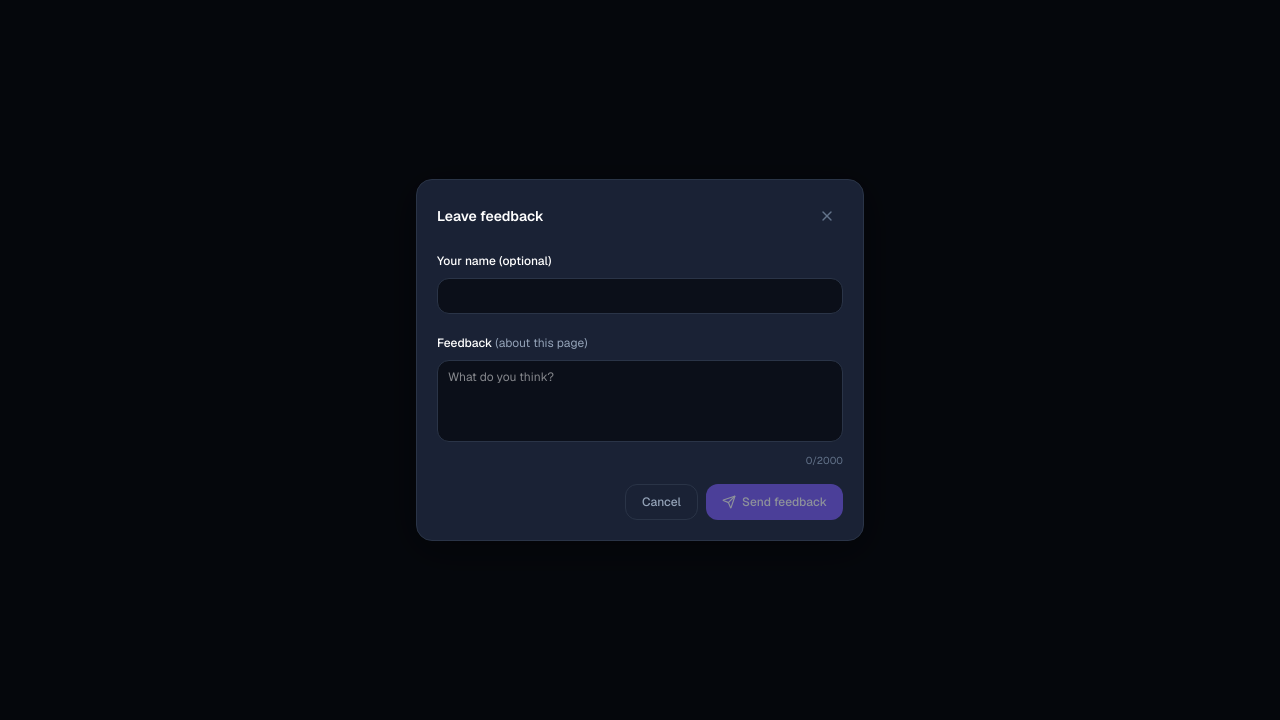
Test: form › submits and shows a success confirmation
This screenshot has width=1280, height=720.
Type "Nice!" into the text box with test id "feedback-body" at (640, 401), box left=437, top=360, right=843, bottom=442
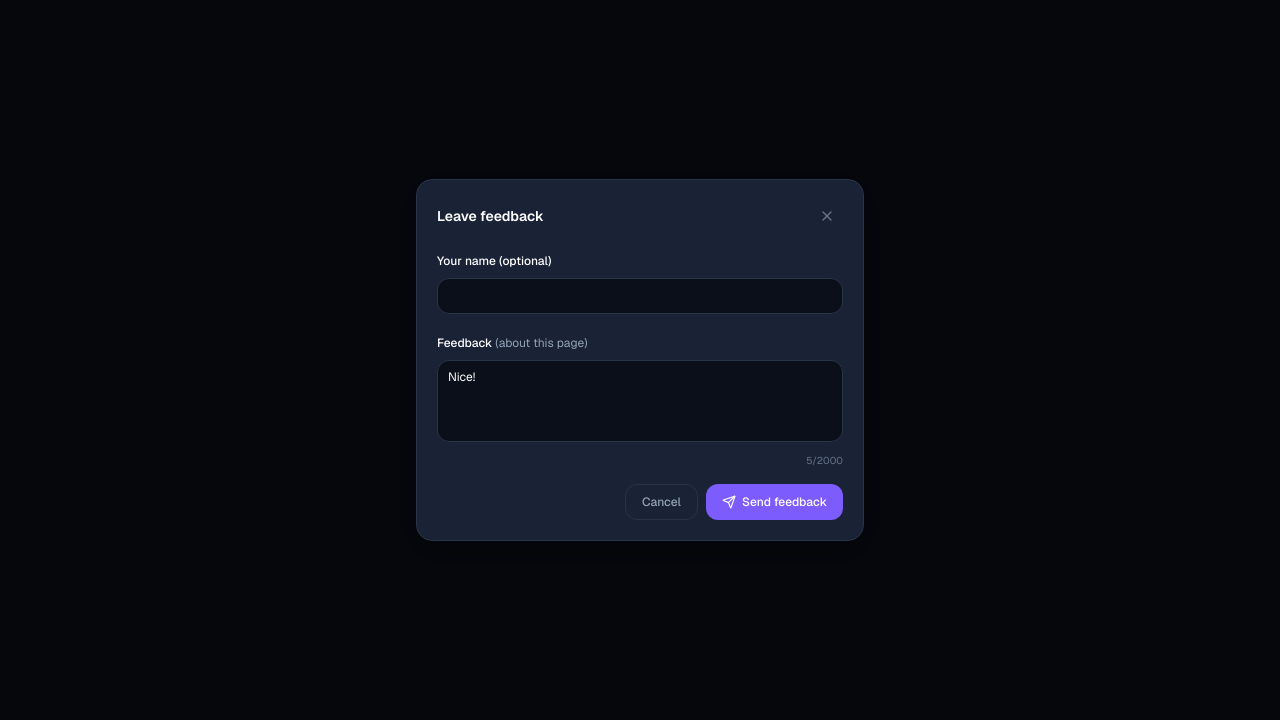
Click the button with test id "feedback-submit" at (774, 502), box left=706, top=484, right=843, bottom=520
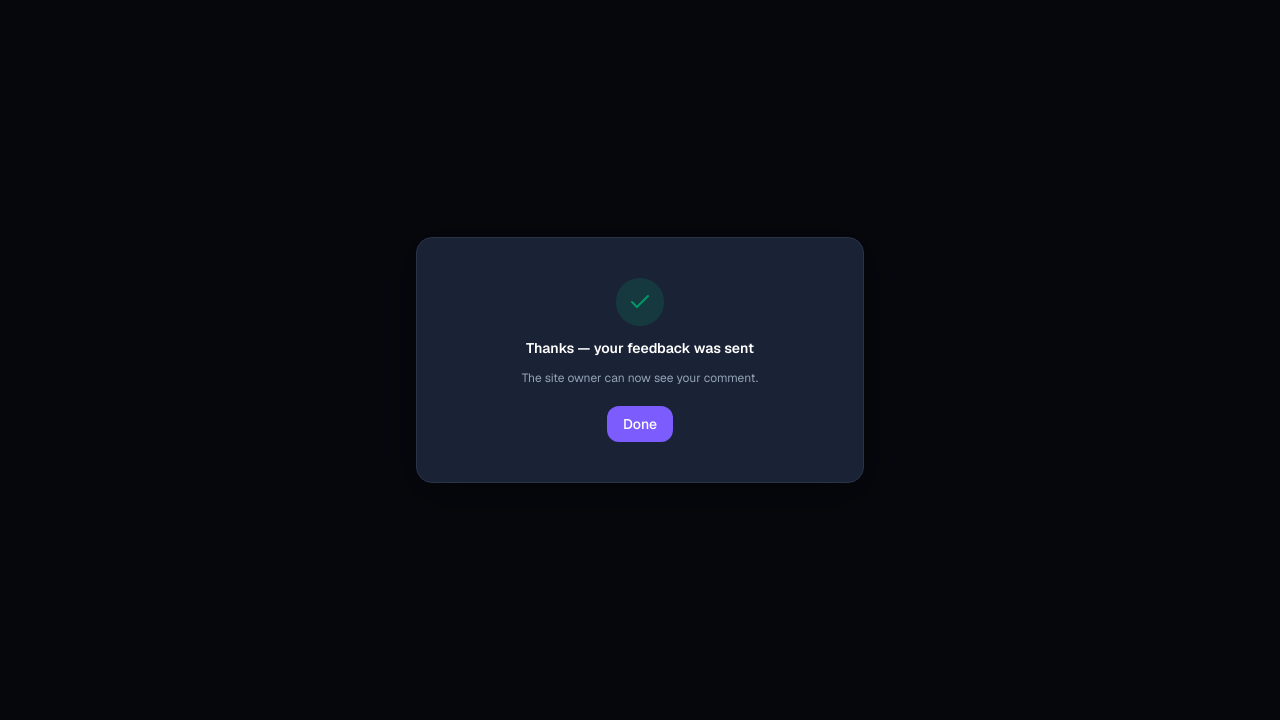
Expected: the heading "Thanks — your feedback was sent" is shown, left=526, top=338, right=754, bottom=358
